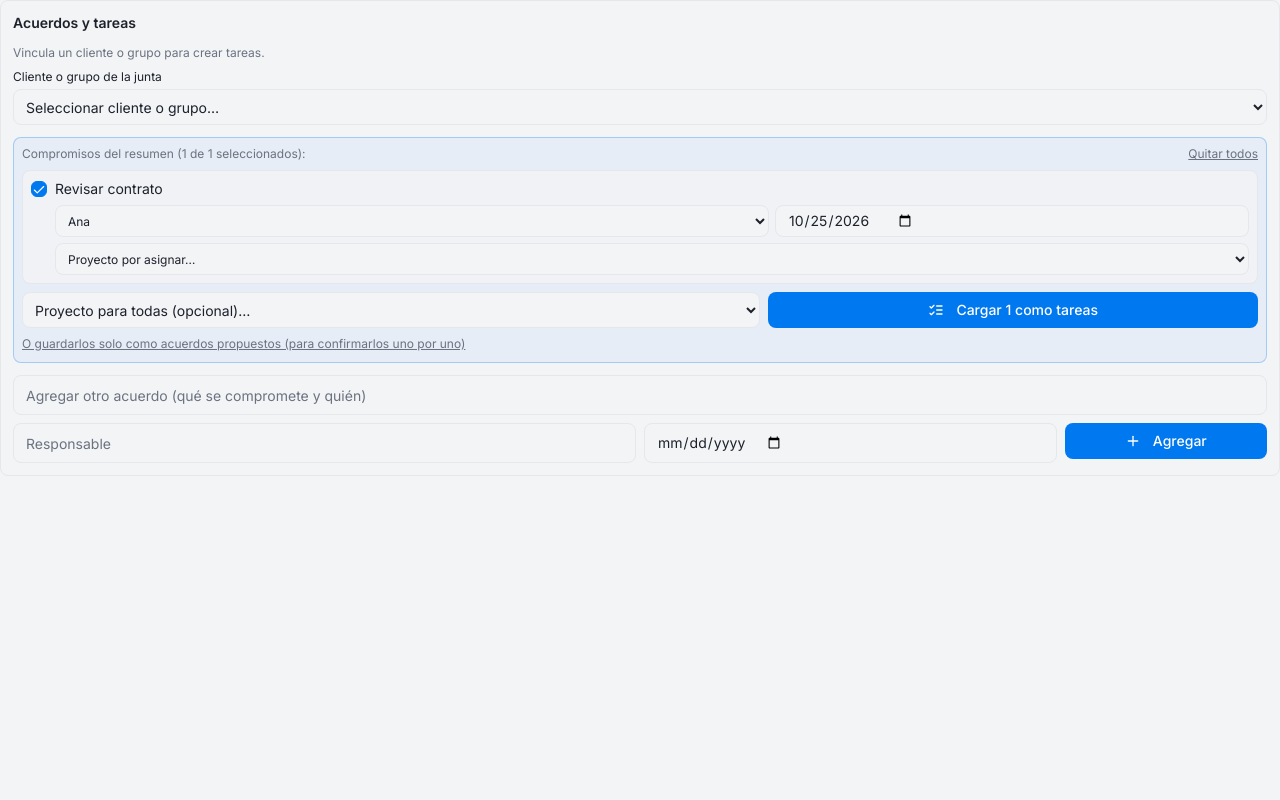
Scenario: MtgAgreementsIntake grupos › permite seleccionar el grupo y guardar solo sus clientes participantes
Later steps or results of the test are not shown.
Select "Grupo Sylon" in the dropdown labelled "Cliente o grupo de la junta". click: (640, 107)
box: left=13, top=89, right=1267, bottom=125
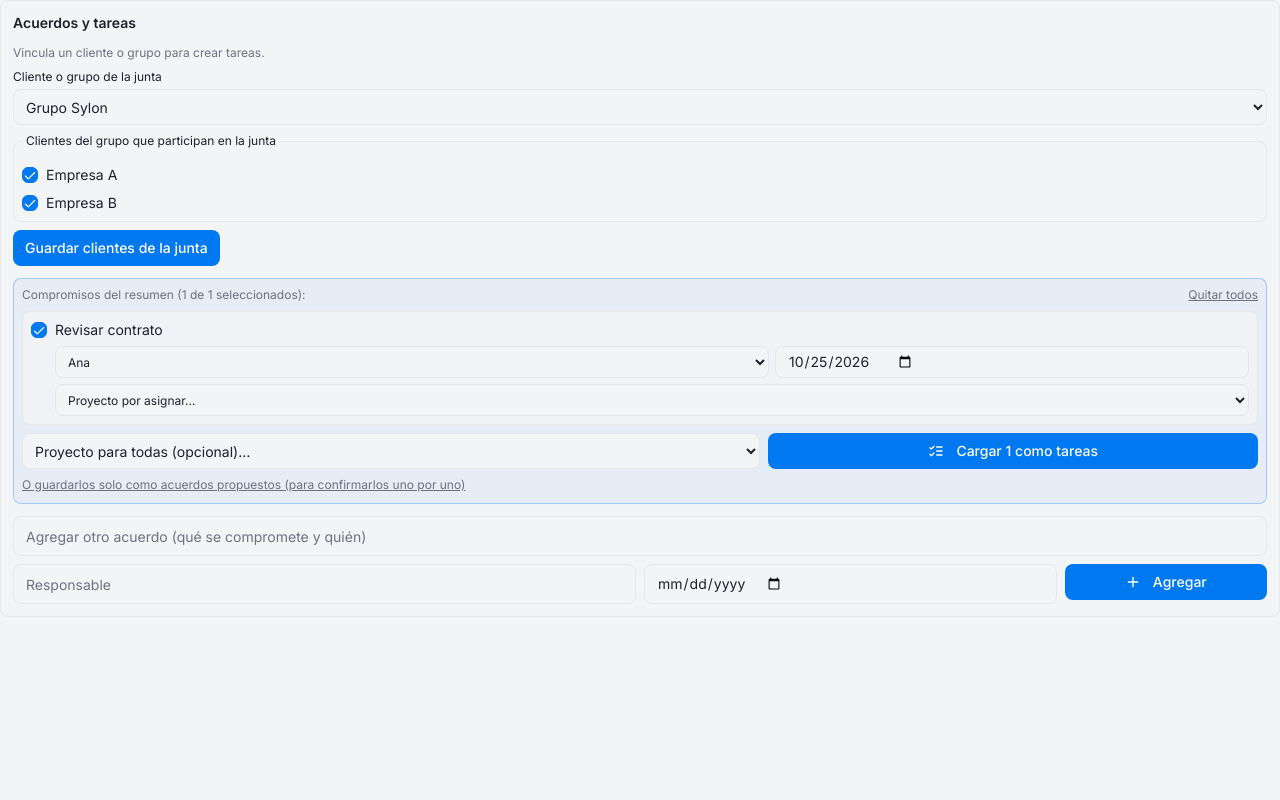
Check: the checkbox named "Empresa A" next to "Empresa A" is checked, box left=22, top=167, right=38, bottom=183
